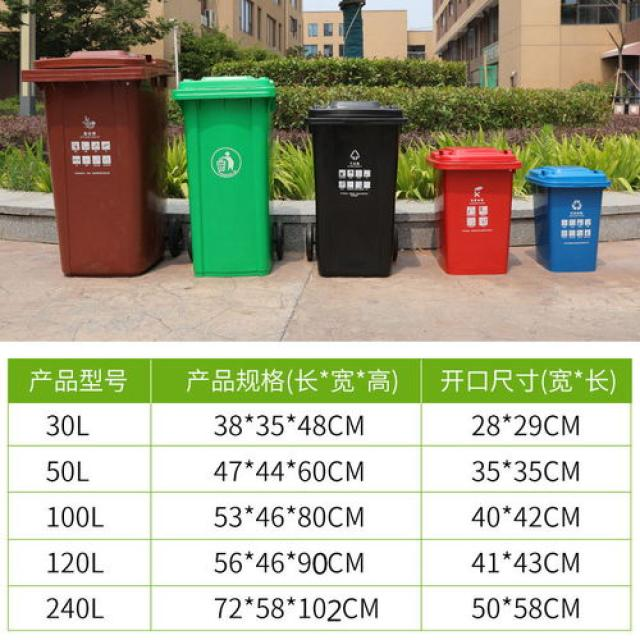garbage_bin: (19, 48, 173, 276), (170, 73, 275, 276), (303, 101, 406, 277), (424, 146, 521, 273), (524, 164, 610, 271)
